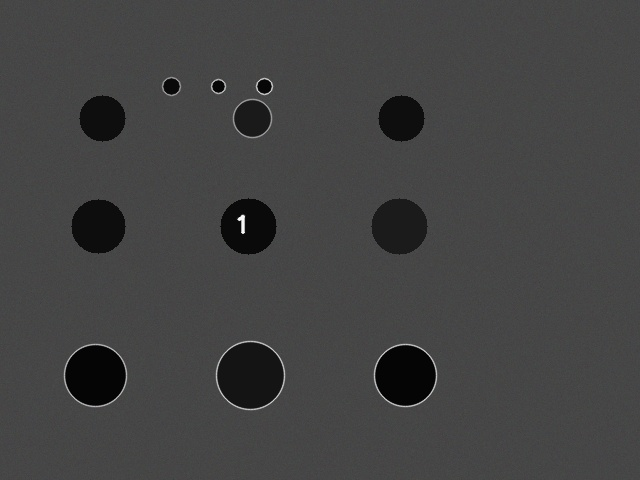hole: (216, 341, 284, 409), (64, 344, 126, 406), (374, 344, 436, 406), (220, 198, 276, 254), (371, 198, 427, 254), (71, 199, 125, 253), (79, 95, 125, 141), (378, 95, 424, 141), (233, 99, 271, 137), (162, 77, 180, 95), (256, 78, 272, 94), (211, 79, 225, 93)
